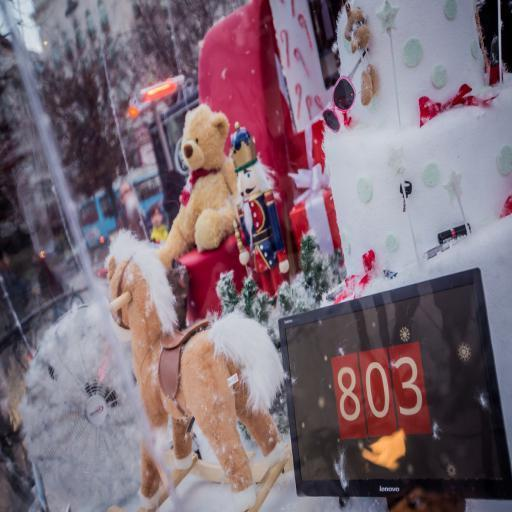horse: (102, 224, 286, 512)
